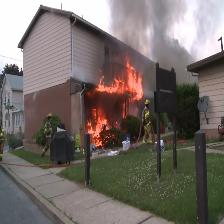fire: (81, 48, 148, 154)
smoke: (104, 1, 224, 96)
